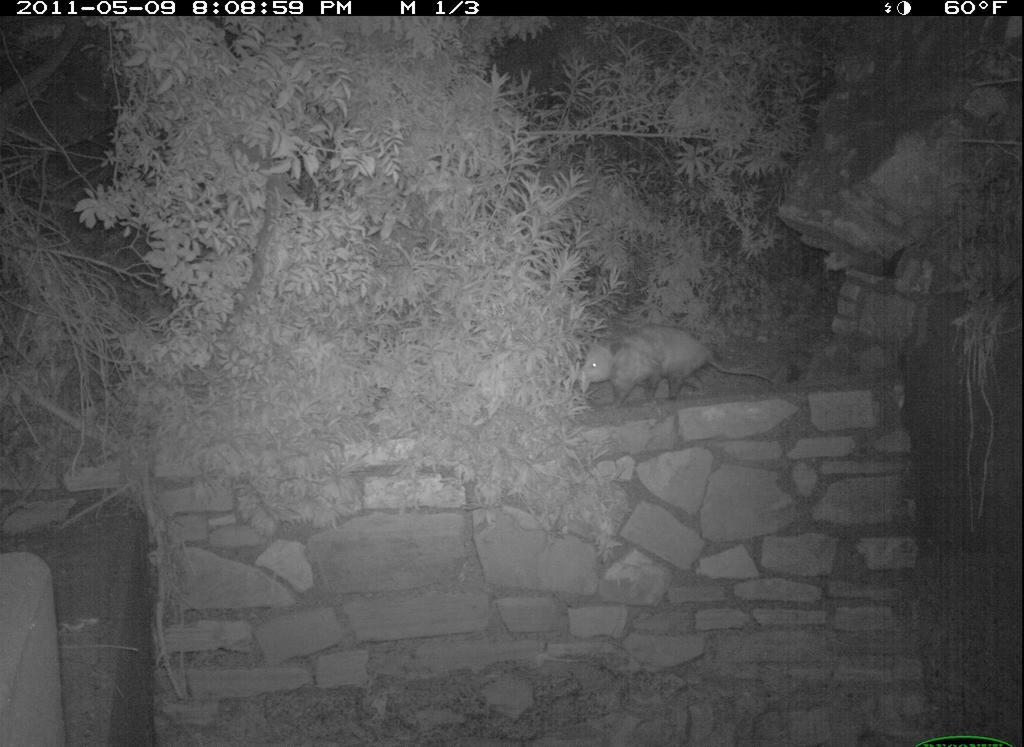opossum: (566, 310, 793, 436)
